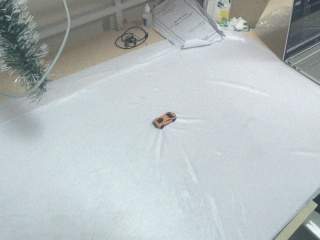toy_car: (153, 112, 177, 129)
